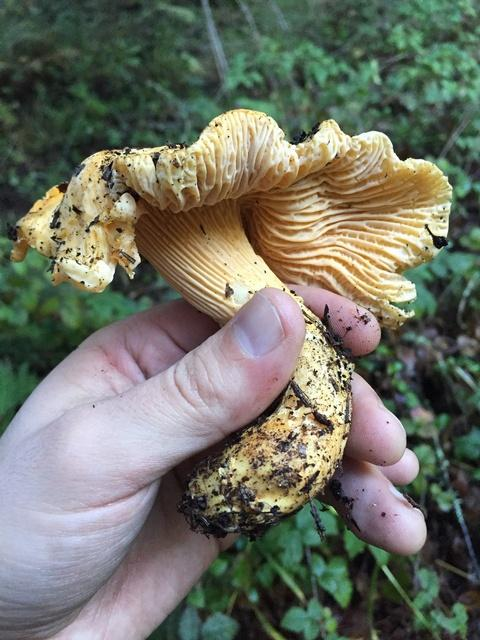edible_mushroom: (7, 106, 452, 540)
